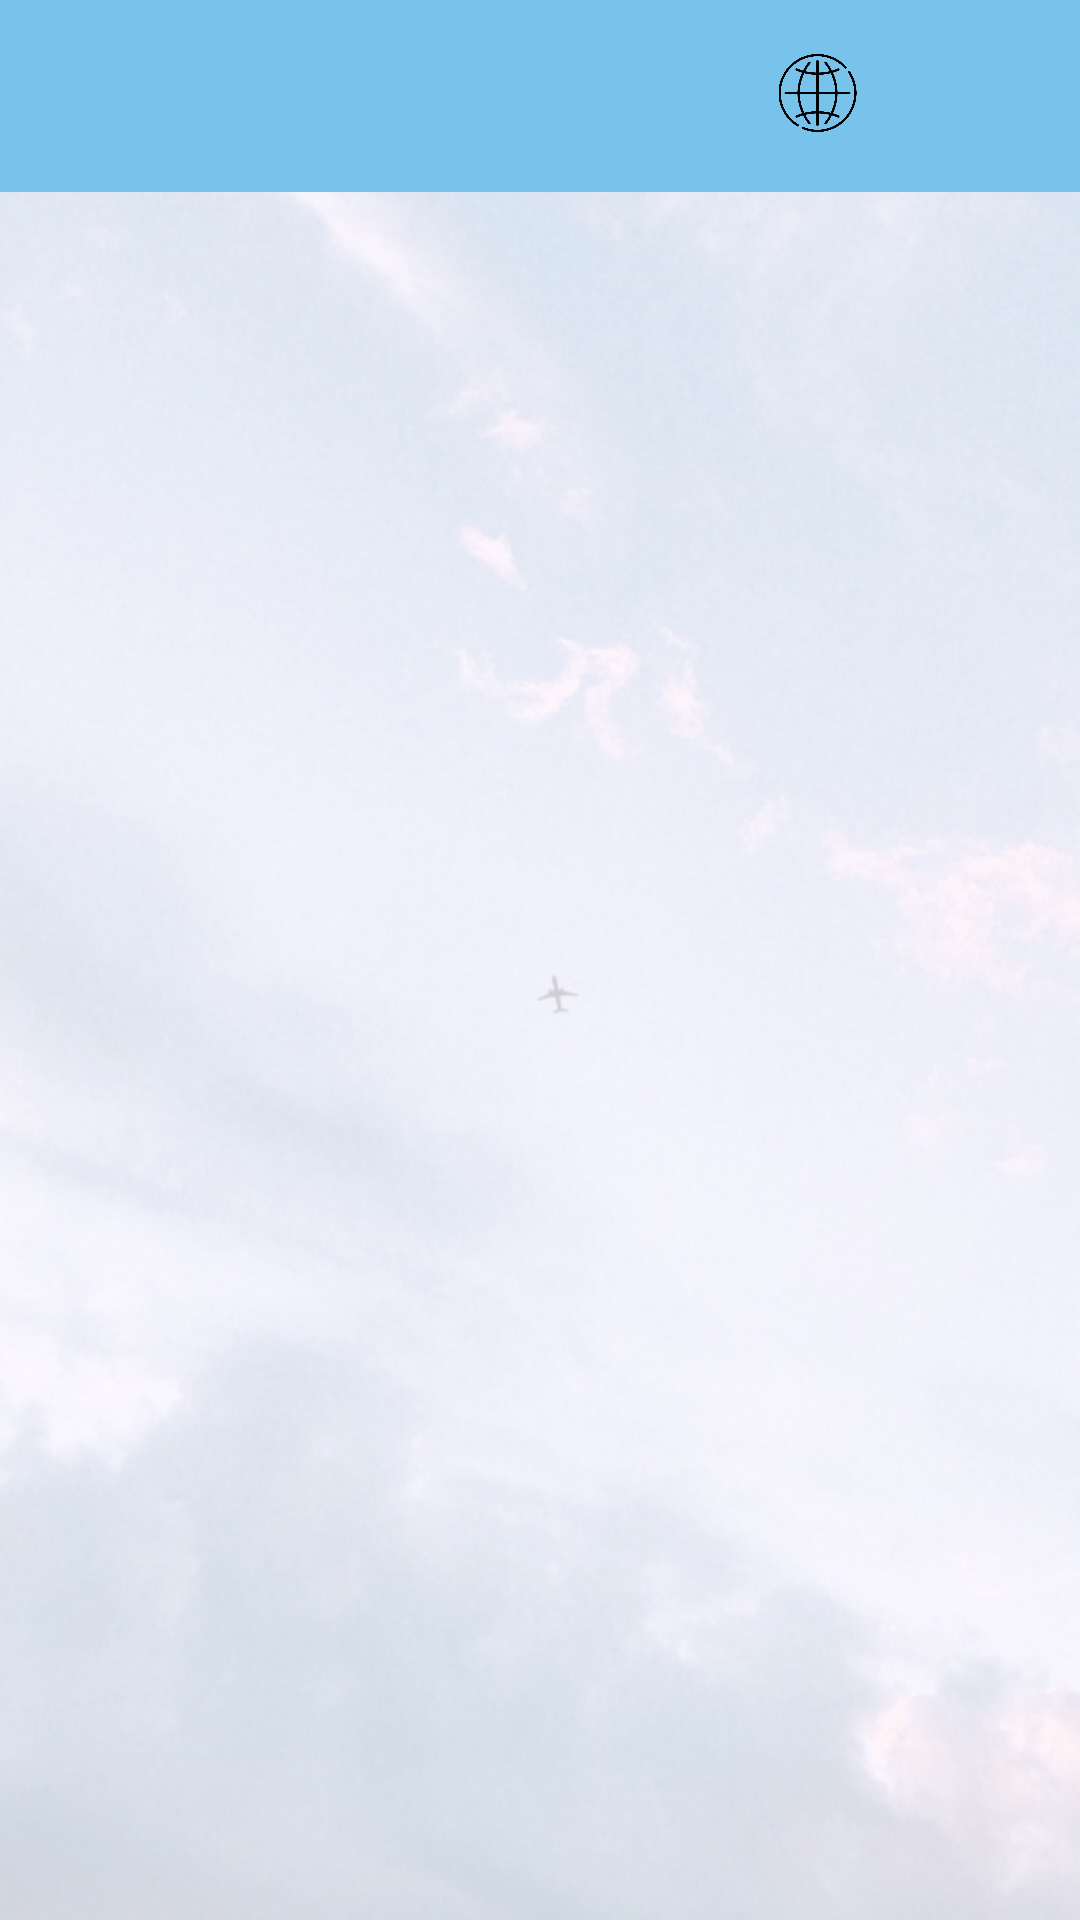

Locate icon controls on the screen. Image size 1080 x 1920, boxes as [x1, y1, x2, y2].
Language Button: [779, 54, 857, 132]
